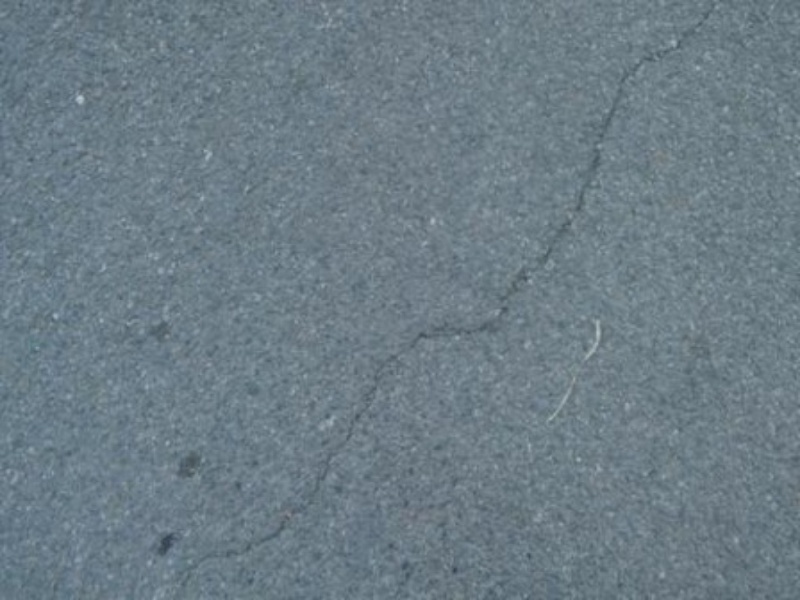crack: (162, 1, 722, 590)
